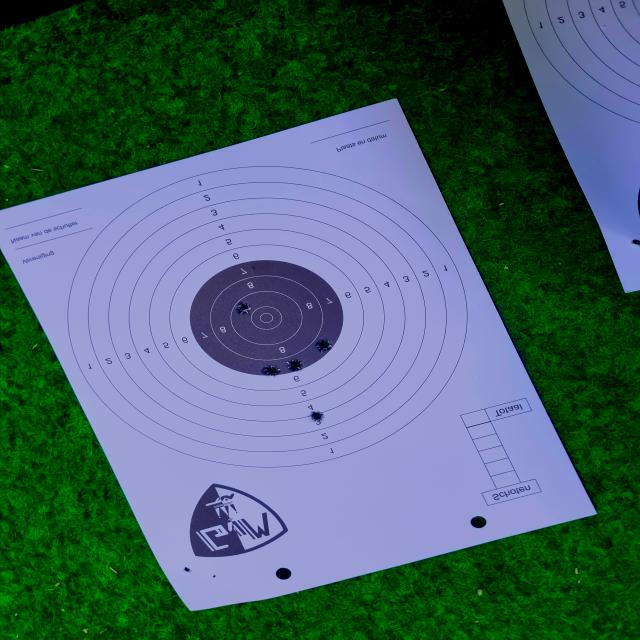4: (309, 411, 326, 422)
7: (262, 365, 282, 378), (315, 339, 332, 353), (286, 359, 304, 372)
9: (234, 301, 252, 315)
Target: (67, 165, 469, 468)
black_contour: (193, 260, 347, 376)
